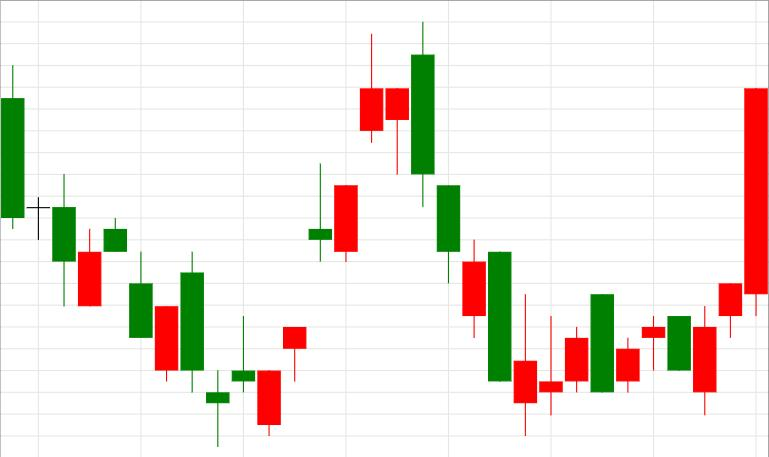bearish_engulfing_fall: (258, 22, 434, 435)
hanging_man_fall: (257, 34, 408, 436)
shooting_star_fall: (257, 35, 383, 436)
